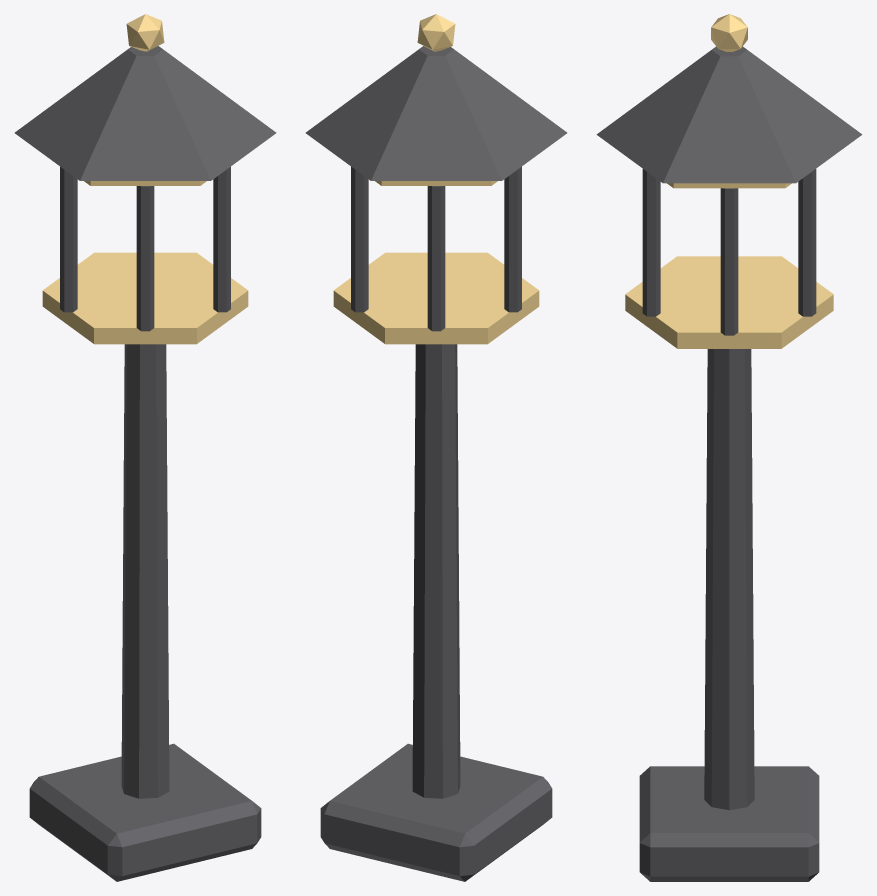
File: Lantern.fbx
3 views of the same model, side by side, from view 1: azimuth 30°, elevation 25°; view 2: azimuth 150°, elevation 25°; view 3: azimuth 270°, elevation 25° (orthographic).
Parts seen in each view (by area): view 1: Lantern; view 2: Lantern; view 3: Lantern.
Boxes of the visible parts, x1=… form: Lantern: x1=14, y1=14, x2=276, y2=881; Lantern: x1=305, y1=14, x2=567, y2=881; Lantern: x1=596, y1=14, x2=862, y2=881.
Size of the model in its own units: 0.6409 by 2.56 by 0.74.
